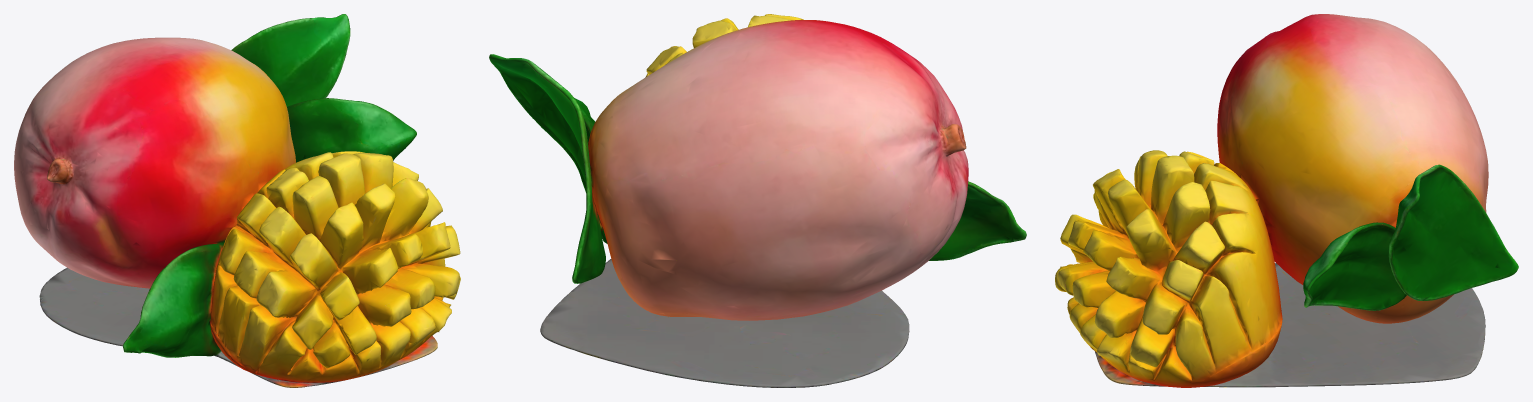
The model's file is mango.glb.
3 renders of one model, left to right at view 1: azimuth 30°, elevation 25°; view 2: azimuth 150°, elevation 25°; view 3: azimuth 270°, elevation 25°, orthographic. The views are drawn at different scales.
Parts seen in each view (by area): view 1: geometry_0; view 2: geometry_0; view 3: geometry_0.
Part boxes in pixels (<box>): geometry_0: <box>14,14,460,387</box>; geometry_0: <box>489,14,1026,387</box>; geometry_0: <box>1055,14,1518,387</box>.
Size of the model in its own units: 0.932 by 0.6137 by 0.9804.
Materials: 1 (1 with a texture image).
